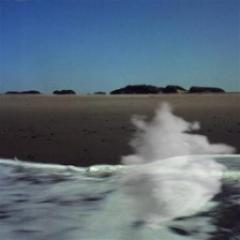smoke: (104, 100, 238, 232)
